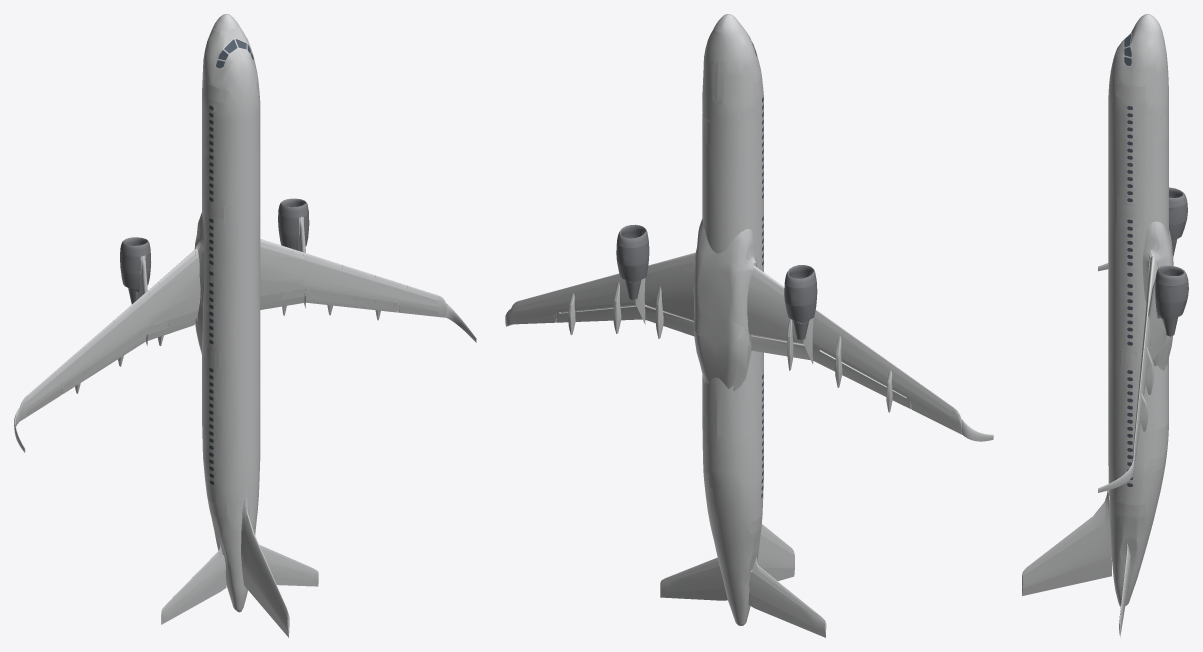
The picture shows the model from 3 angles, left to right: view 1: azimuth 30°, elevation 25°; view 2: azimuth 150°, elevation 25°; view 3: azimuth 270°, elevation 25°; orthographic projection. The views are drawn at different scales.
Visible parts, largest first — view 1: A321; view 2: A321; view 3: A321.
Boxes of the visible parts, x1,y1,x2,y2 form: A321: (14,14,476,637); A321: (505,14,993,637); A321: (1022,14,1188,637).
Size of the model in its own units: 35.87 by 44.51 by 11.38.
